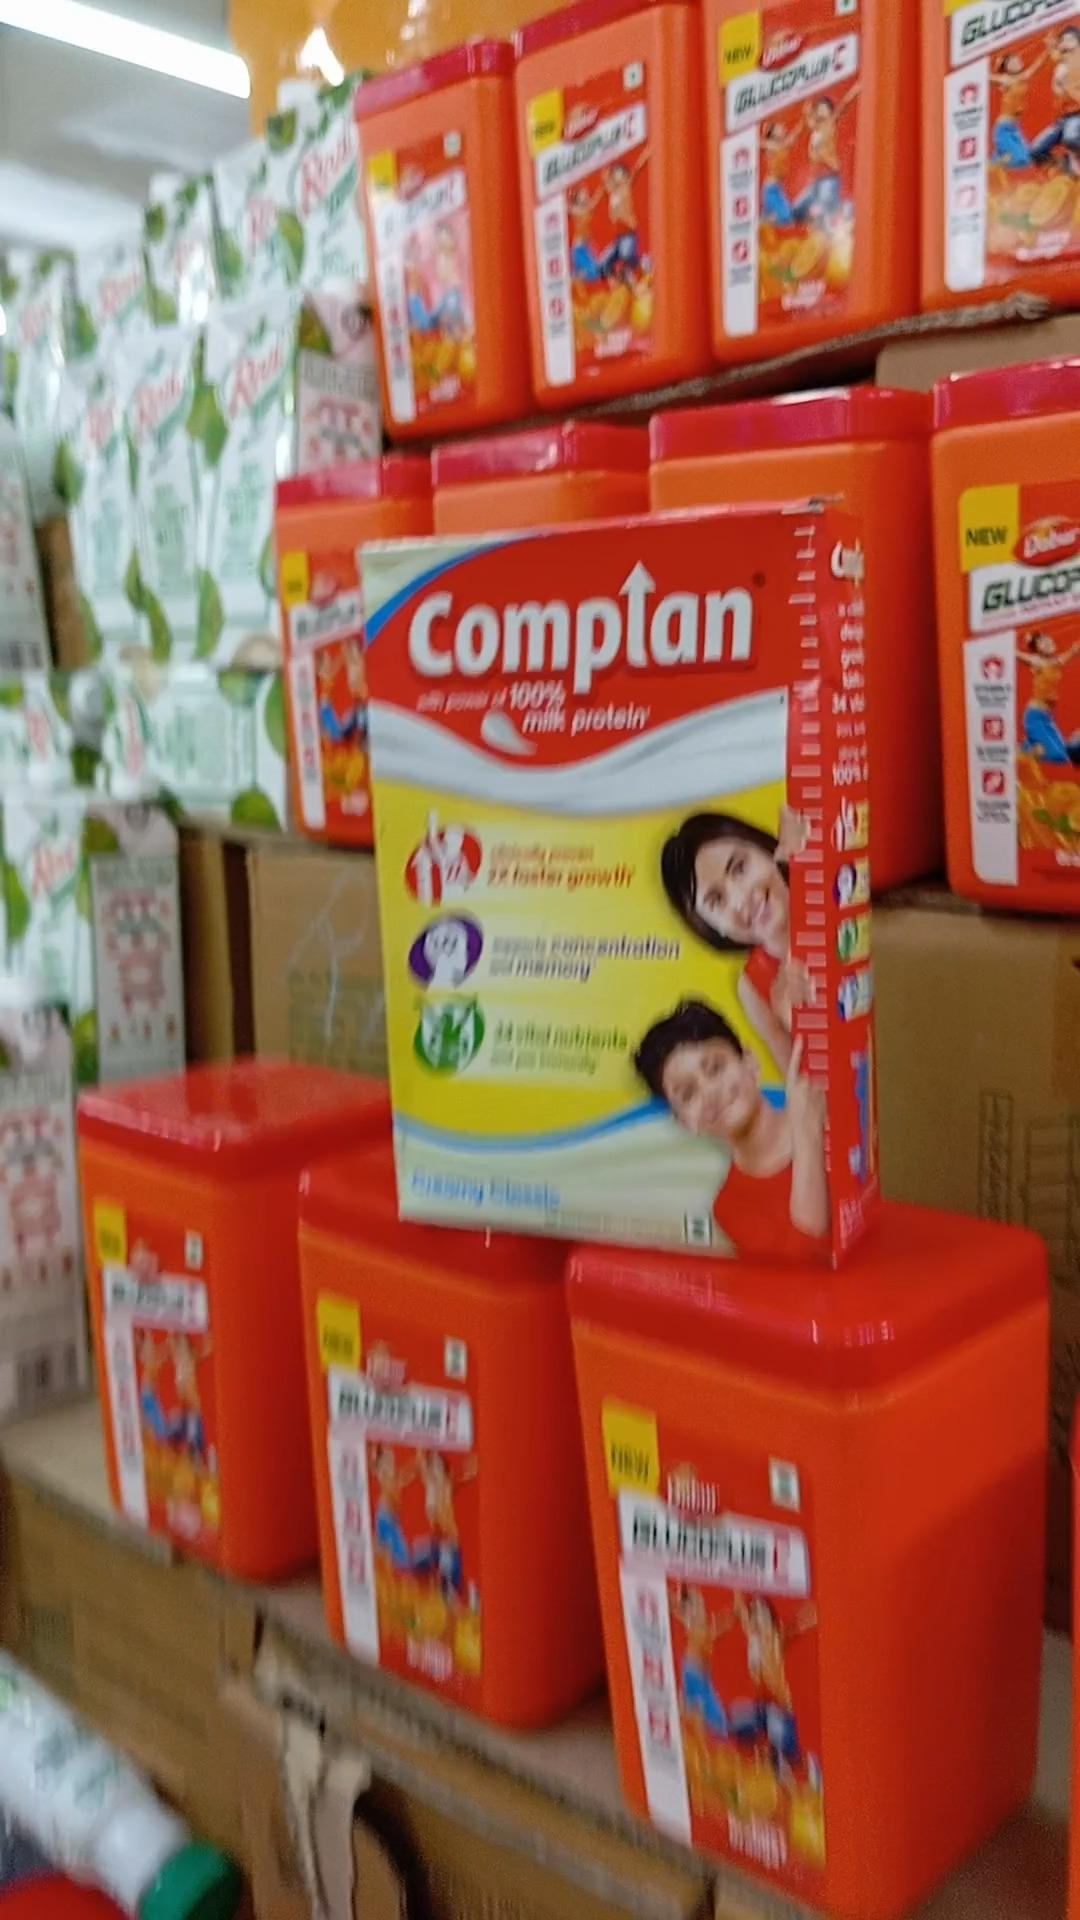COMPLAN_CREAMY_CLASSIC_500_G_PACK: (376, 538, 839, 1267)
